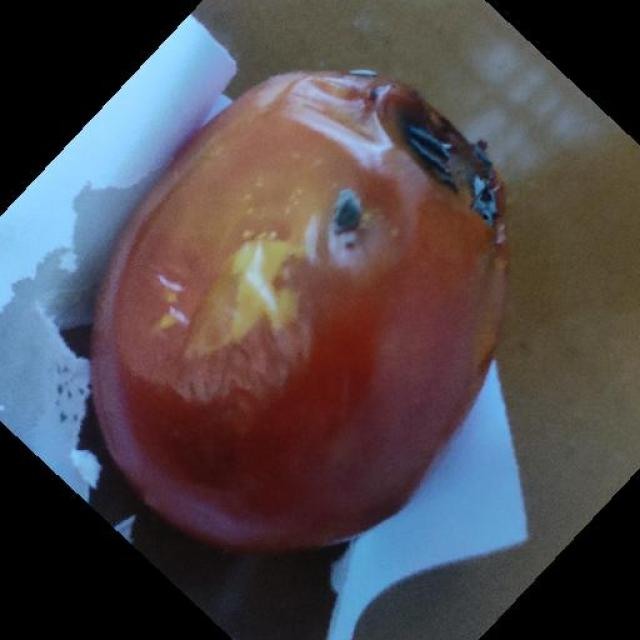Stale_tomato: (122, 59, 500, 540)
